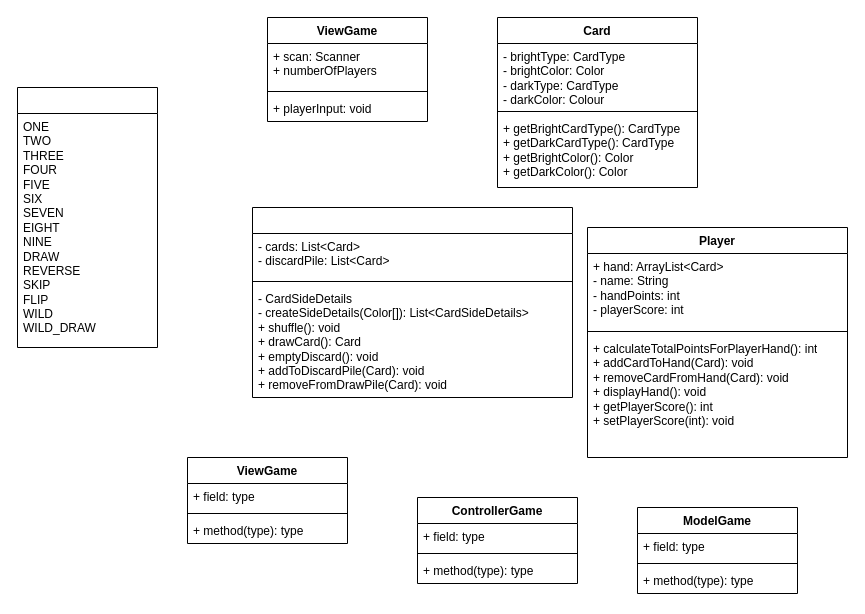
Image size: 865x614. Some labels were removed from this diagram. Here are the shapes that lost their labels. From the top down, the box of each, then its label:
(16, 86, 158, 348): <EnumeratIon> CardType
(252, 206, 572, 398): Deck
